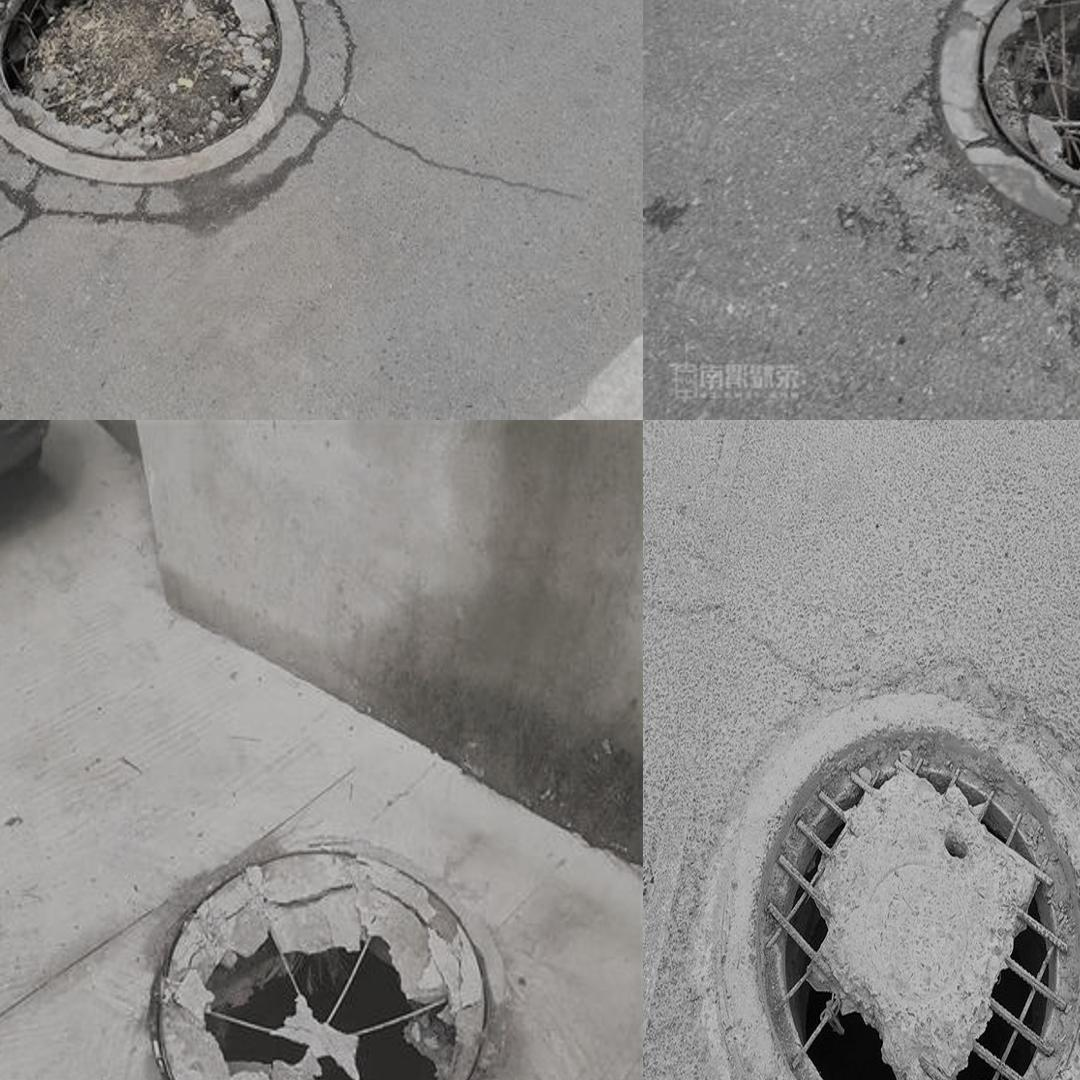broke: (712, 657, 1080, 1080), (99, 829, 558, 1080), (0, 0, 340, 244), (917, 0, 1080, 245)
